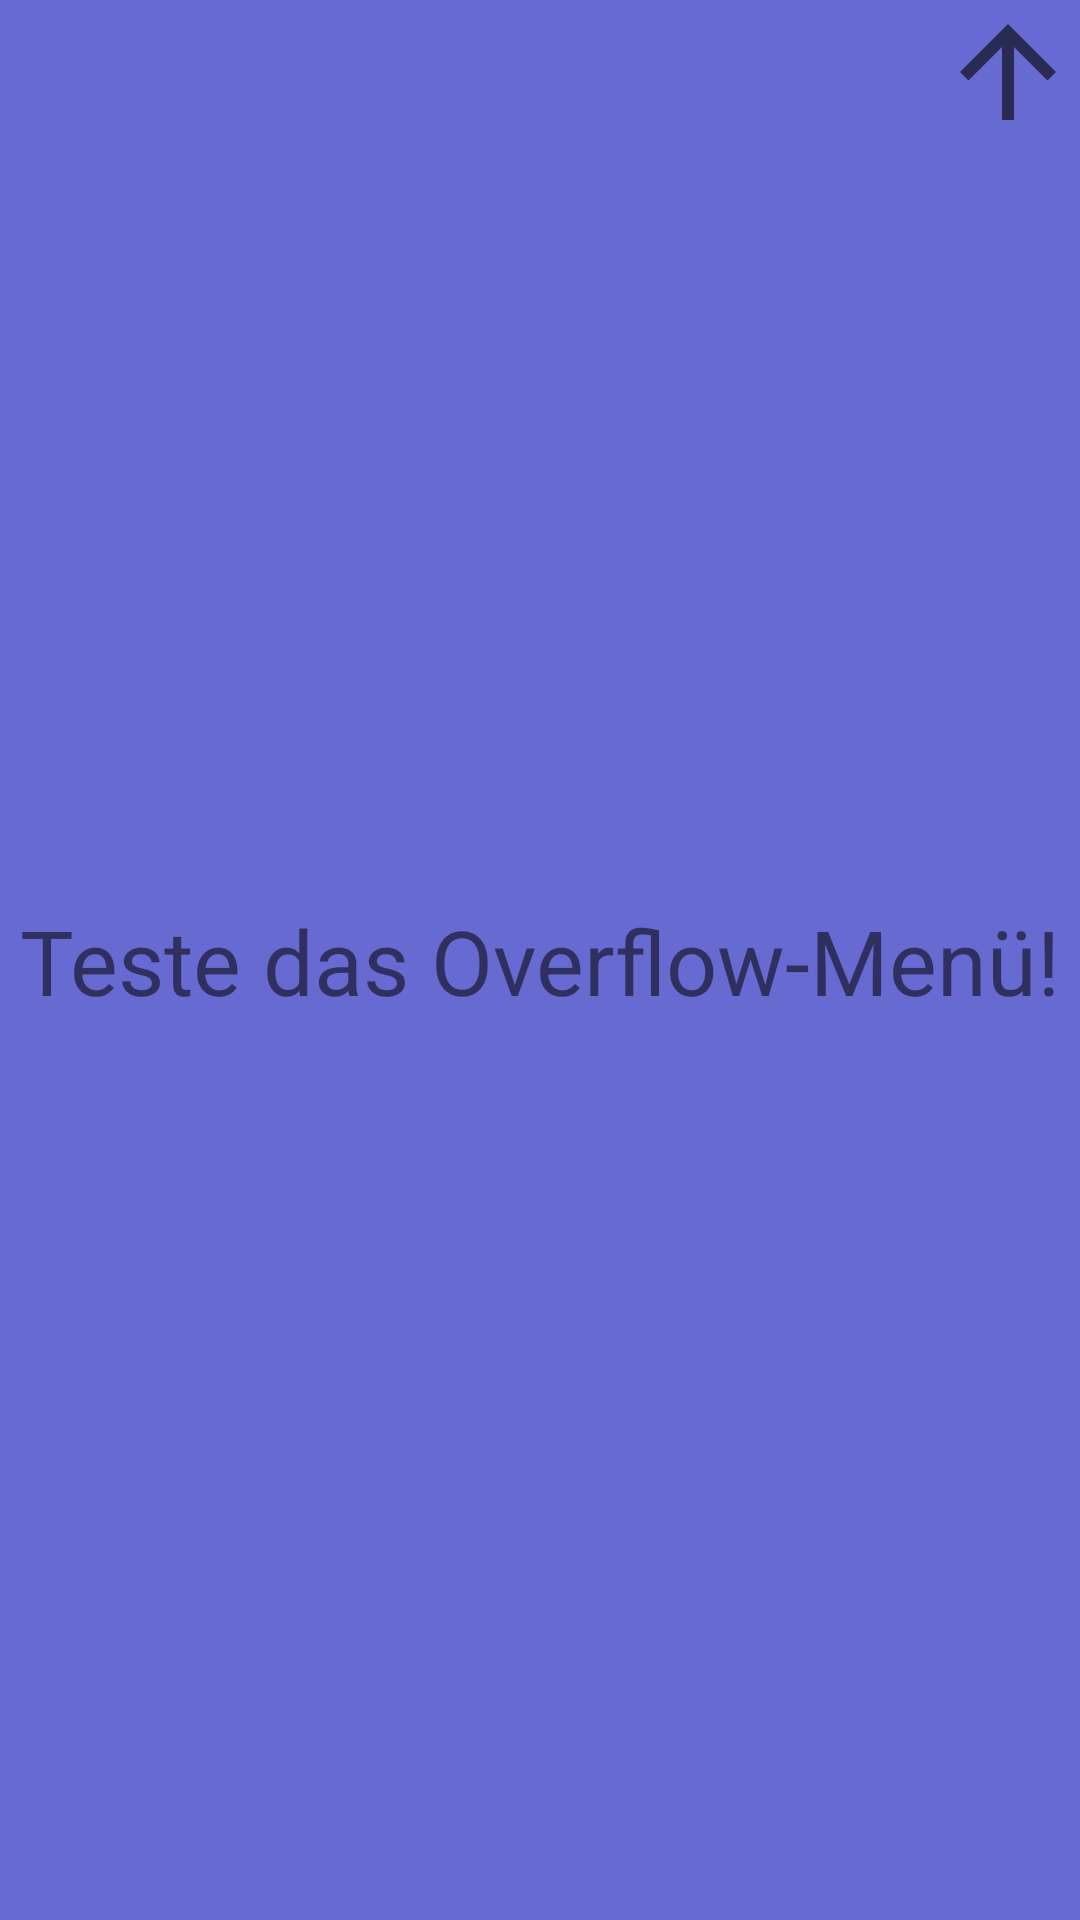

Icons on this 1080x1920 Android screen, each with its box as bbox=[x1, y1, x2, y2]:
arrow upward: bbox=[960, 24, 1056, 120]
